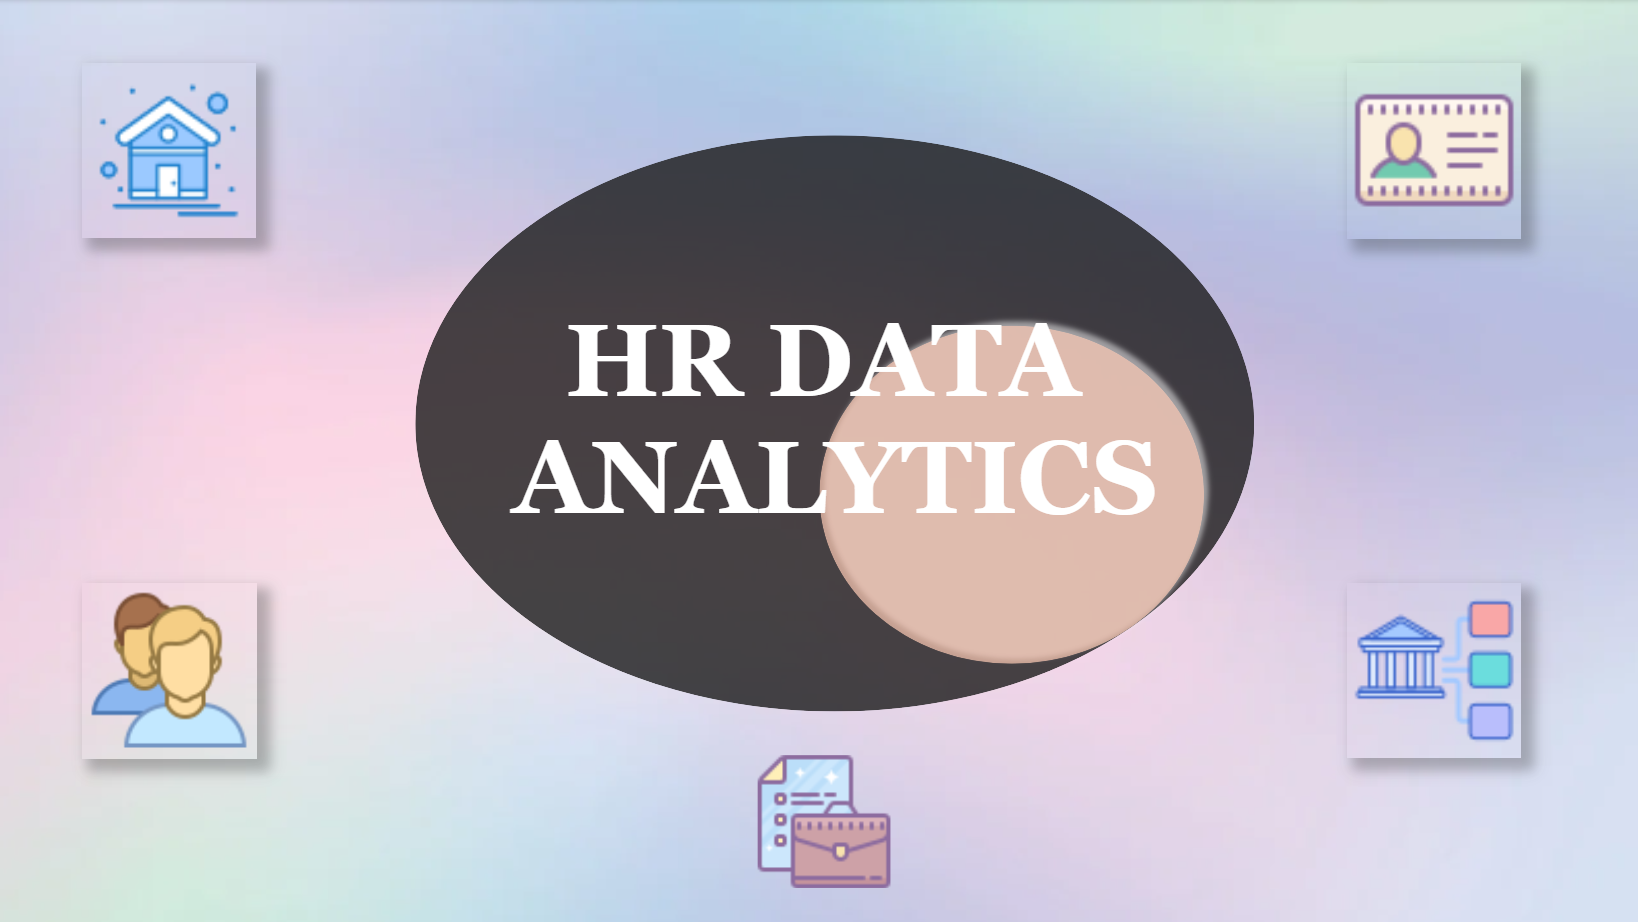

The dashboard page shown, as its layout file describes it:
{"tool":"powerbi","page":{"name":"HOME","canvas":[1280,720],"ordinal":0},"visuals":[{"type":"image","box":[64.2,49.6,136.3,136.3],"z":0},{"type":"shape","box":[323.8,106.1,652.2,448],"z":1000},{"type":"shape","box":[628.5,244.9,317.1,281],"z":2000},{"type":"textbox","box":[387,230.2,526.9,202],"z":3000},{"type":"image","box":[64.3,453.6,136.5,136.5],"z":4000},{"type":"image","box":[1047.1,49.6,136,136.5],"z":5000},{"type":"image","box":[1047.1,453.6,136,136],"z":6000},{"type":"image","box":[557.7,583,166.4,112.9],"z":6001}]}

Visuals, with their boxes in screenshot pixels (x1, y1, x2, y2), scaled from the page's 1280x720 canvas onto the 1638x922 screenshot:
image: {"x1": 82, "y1": 64, "x2": 257, "y2": 238}
shape: {"x1": 414, "y1": 136, "x2": 1249, "y2": 710}
shape: {"x1": 804, "y1": 314, "x2": 1210, "y2": 673}
textbox: {"x1": 495, "y1": 295, "x2": 1170, "y2": 553}
image: {"x1": 82, "y1": 581, "x2": 257, "y2": 756}
image: {"x1": 1340, "y1": 64, "x2": 1514, "y2": 238}
image: {"x1": 1340, "y1": 581, "x2": 1514, "y2": 755}
image: {"x1": 714, "y1": 747, "x2": 927, "y2": 891}
